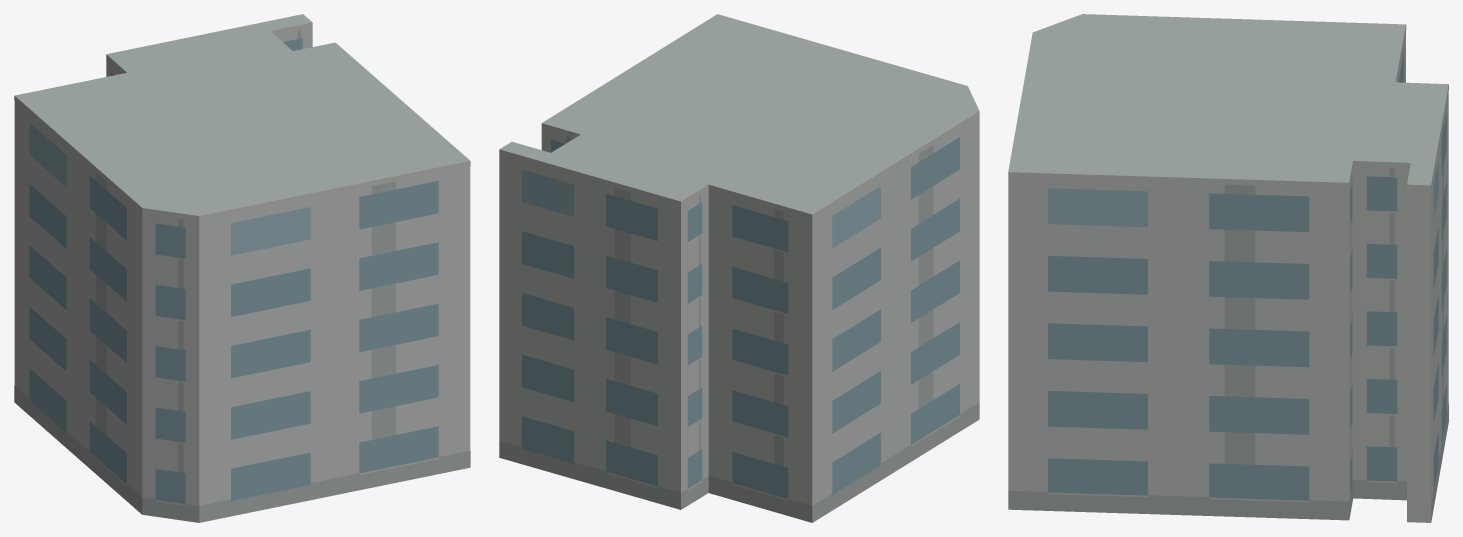
File: survey-upis-32832594.glb
The picture shows the model from 3 angles, left to right: view 1: azimuth 30°, elevation 25°; view 2: azimuth 150°, elevation 25°; view 3: azimuth 270°, elevation 25°; orthographic projection. The views are drawn at different scales.
Parts seen in each view (by area): view 1: survey-upis-32832594.tmp; view 2: survey-upis-32832594.tmp; view 3: survey-upis-32832594.tmp.
Boxes of the visible parts, x1,y1,x2,y2 form: survey-upis-32832594.tmp: (14, 14, 470, 522); survey-upis-32832594.tmp: (499, 14, 979, 522); survey-upis-32832594.tmp: (1008, 14, 1448, 522).
Size of the model in its own units: 15.63 by 14.35 by 16.99.
